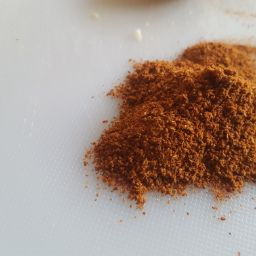Garam masala: (85, 88, 256, 235), (147, 28, 256, 213), (74, 117, 256, 227), (105, 51, 216, 221), (95, 32, 256, 146)
